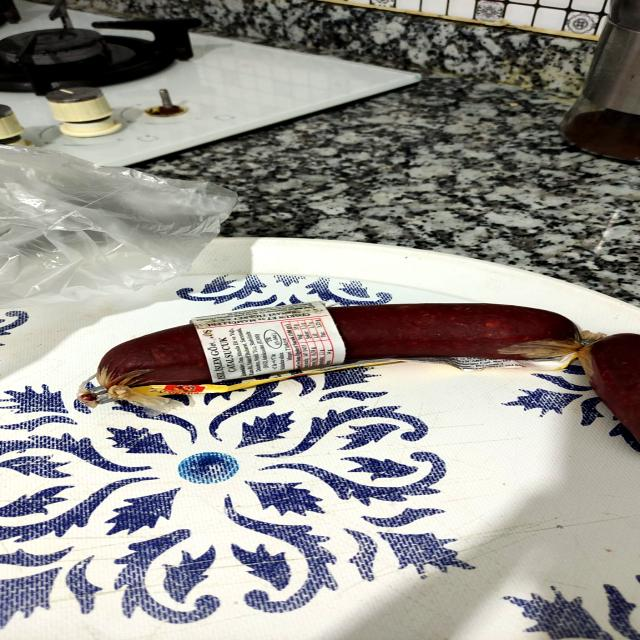sausage: (70, 292, 605, 411)
